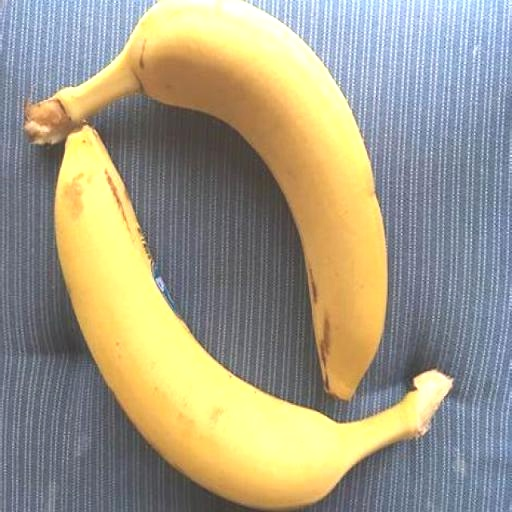fruit: (55, 127, 451, 509), (25, 0, 386, 398)
